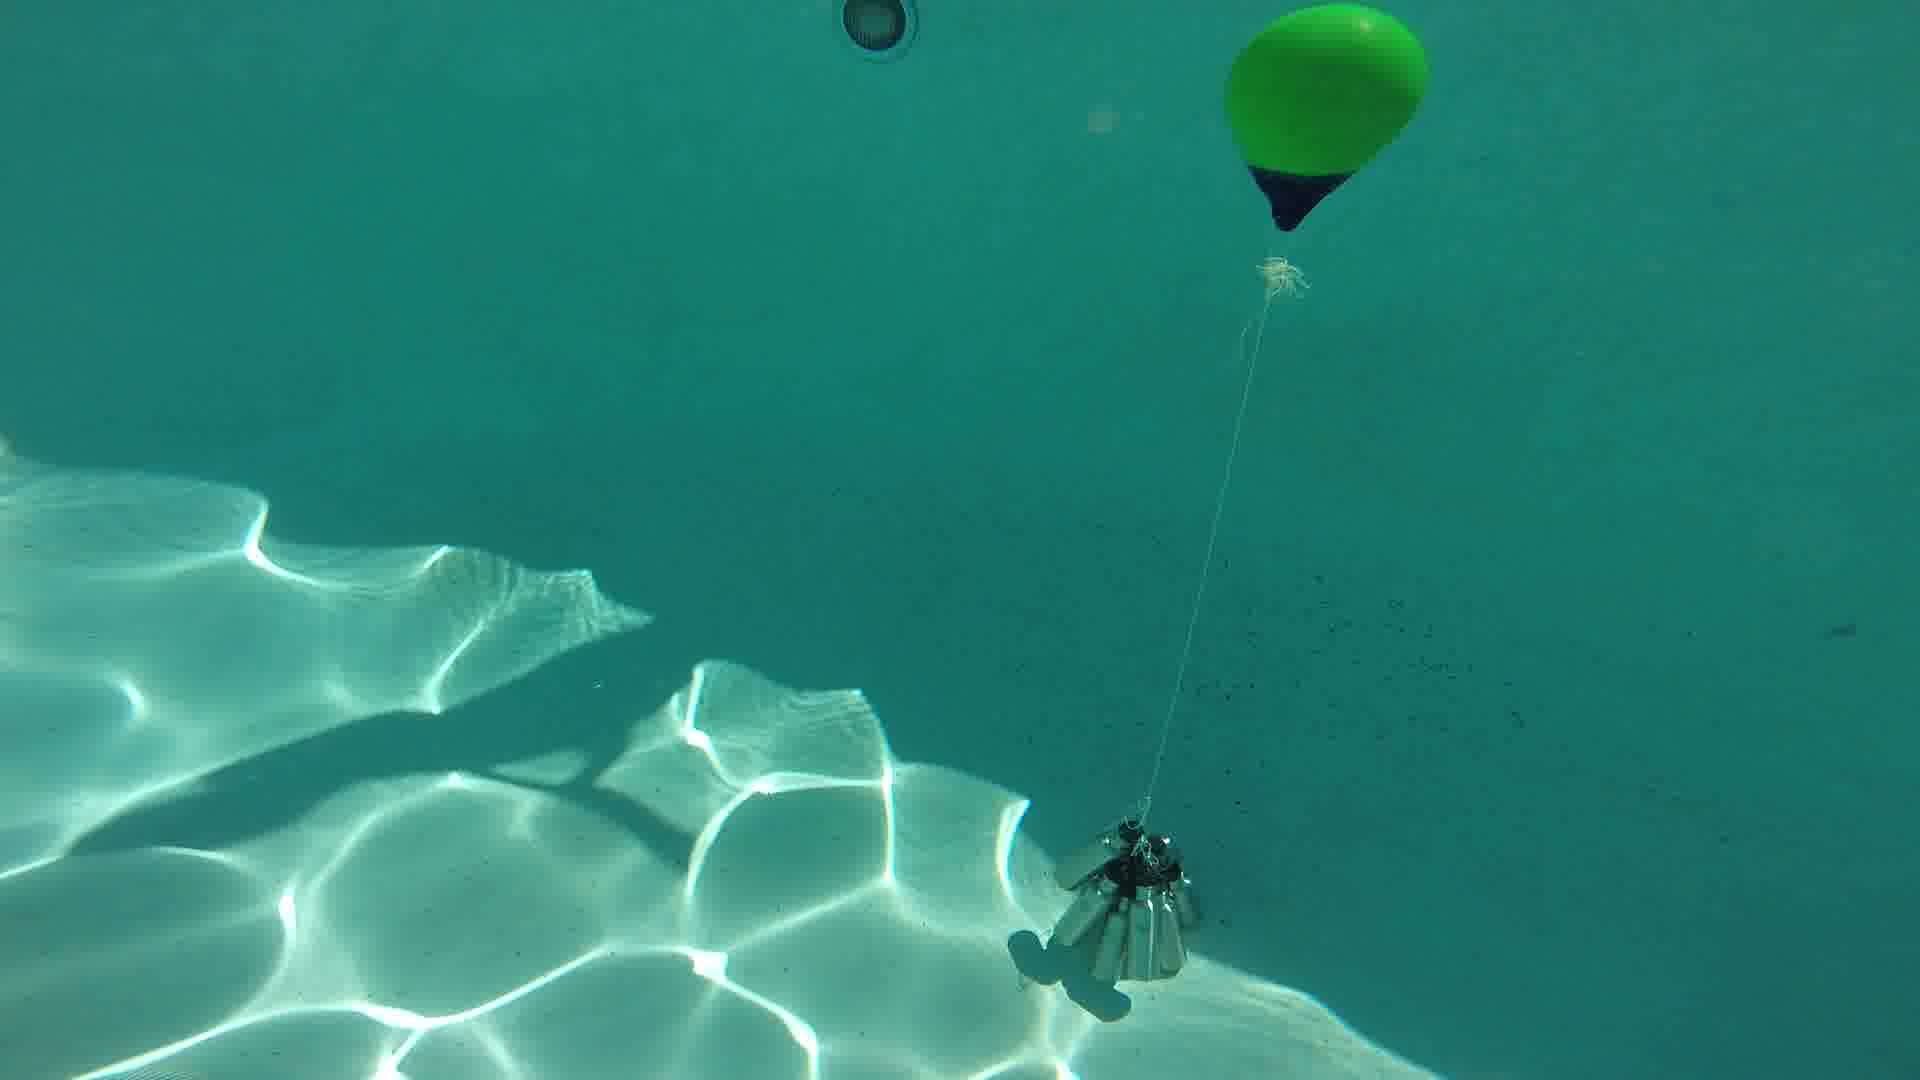yellow_buoy: (1225, 1, 1427, 236)
